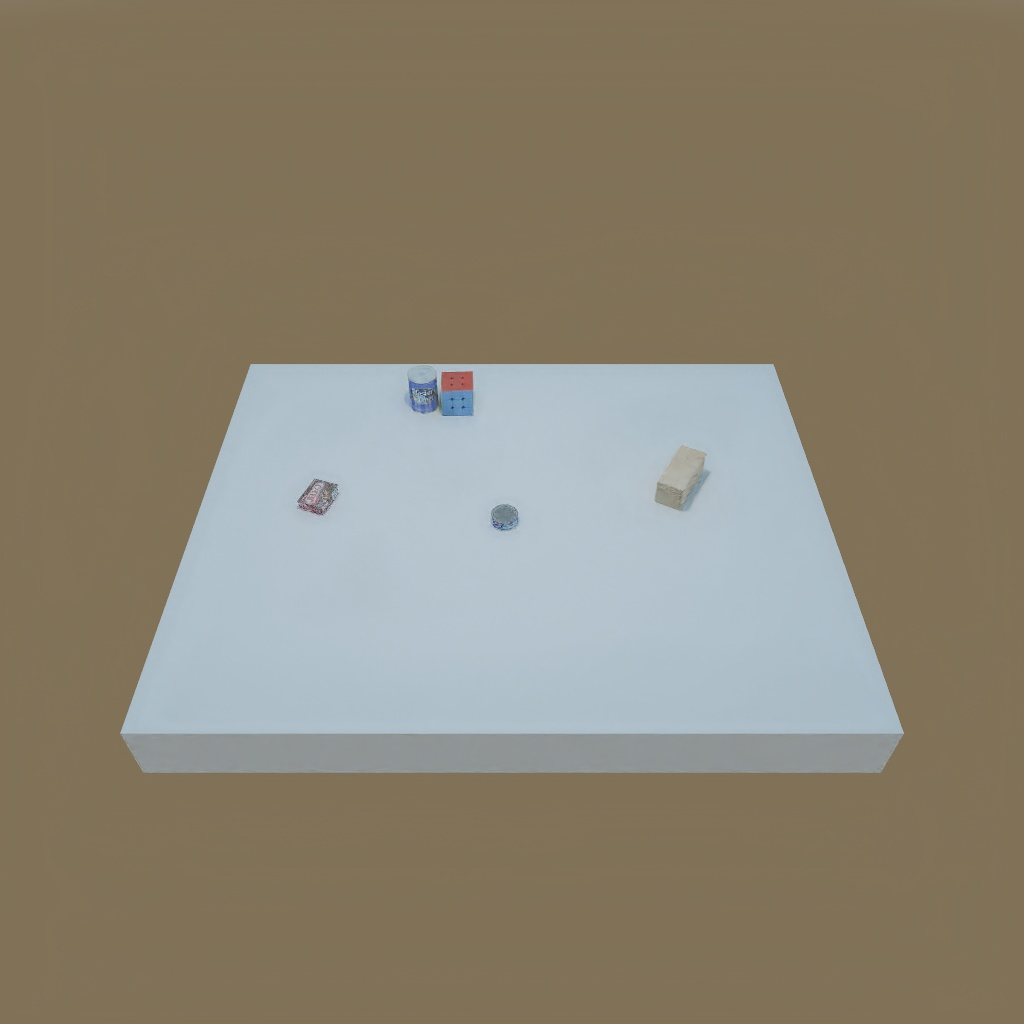master_chef_can: (402, 363, 441, 421)
pudding_box: (294, 469, 345, 520)
rubiks_cube: (438, 370, 478, 416)
wood_block: (653, 447, 706, 508)
